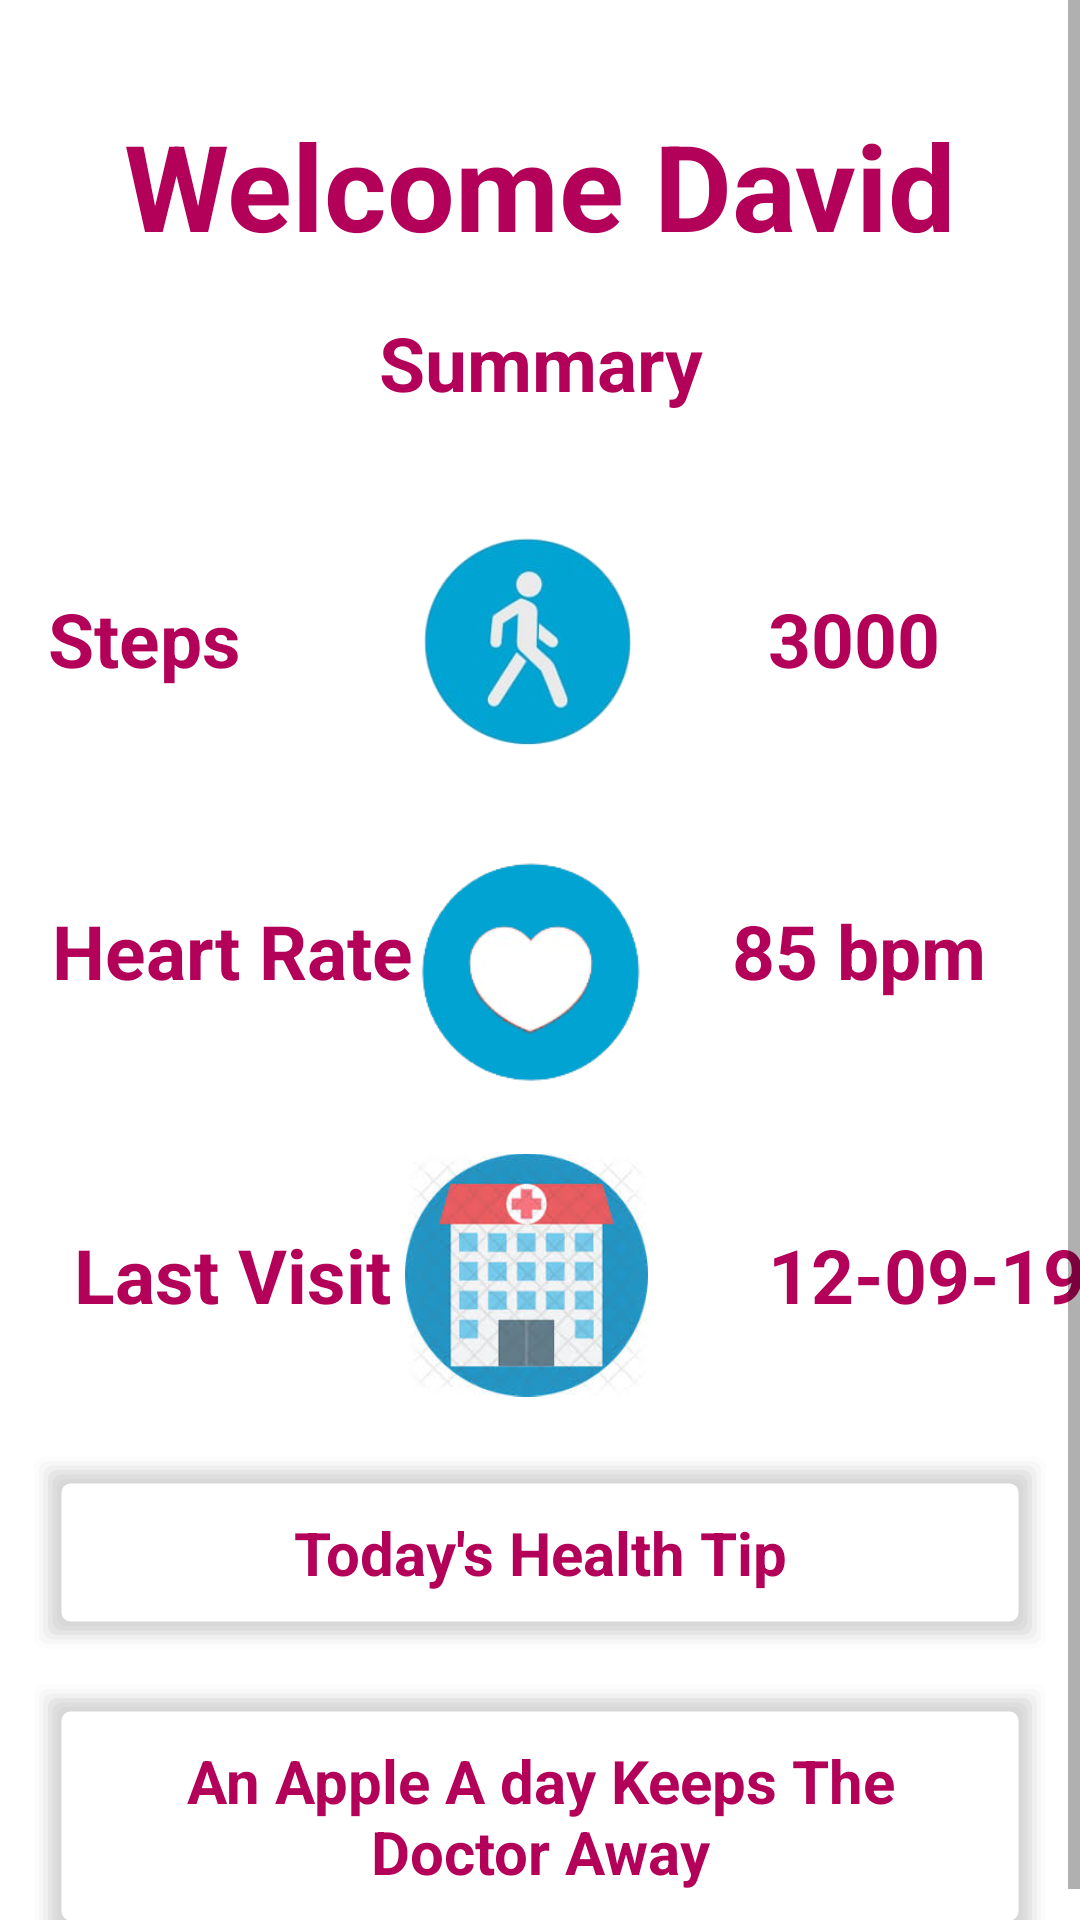

Named icons in this screenshot (1080*1920) and their centers, (x=x, y=y):
hearbeat: (x=531, y=972)
hospital: (x=526, y=1275)
